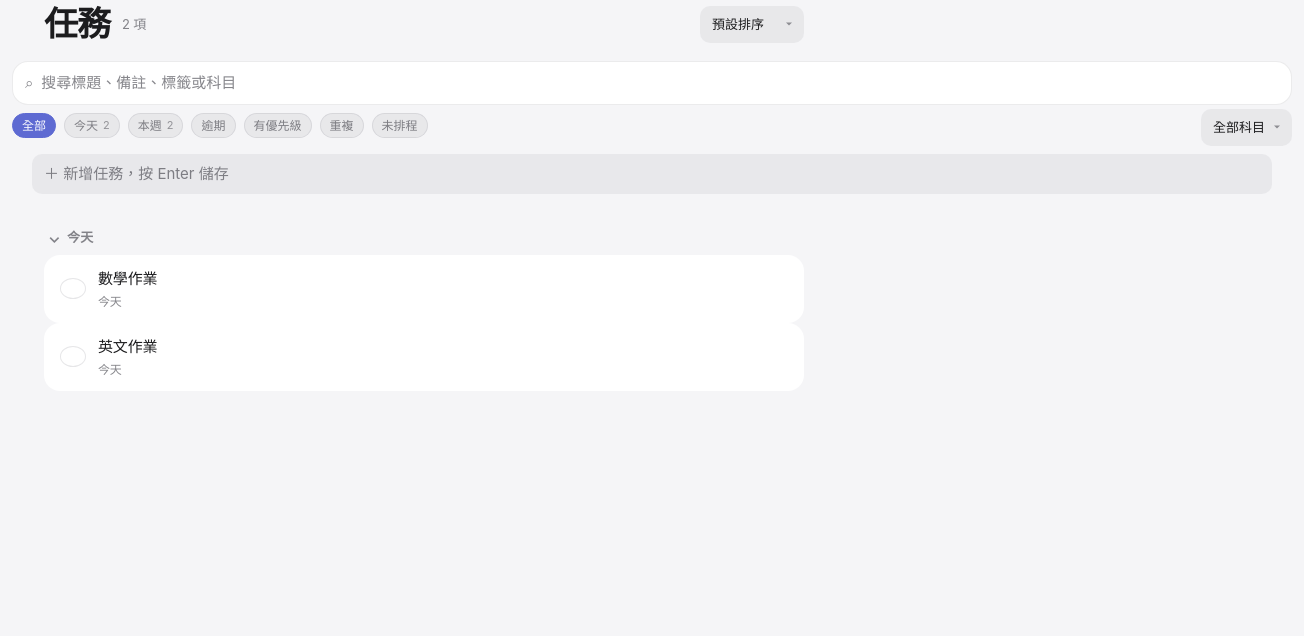
Test: 任務明細切換到另一筆任務時保留未寫入的草稿 › A 先失敗、重試成功後才切換到 B，B 的編輯不會覆蓋掉 A
Click the text "數學作業": (128, 278) [98, 269, 157, 288]
(page scrolled)
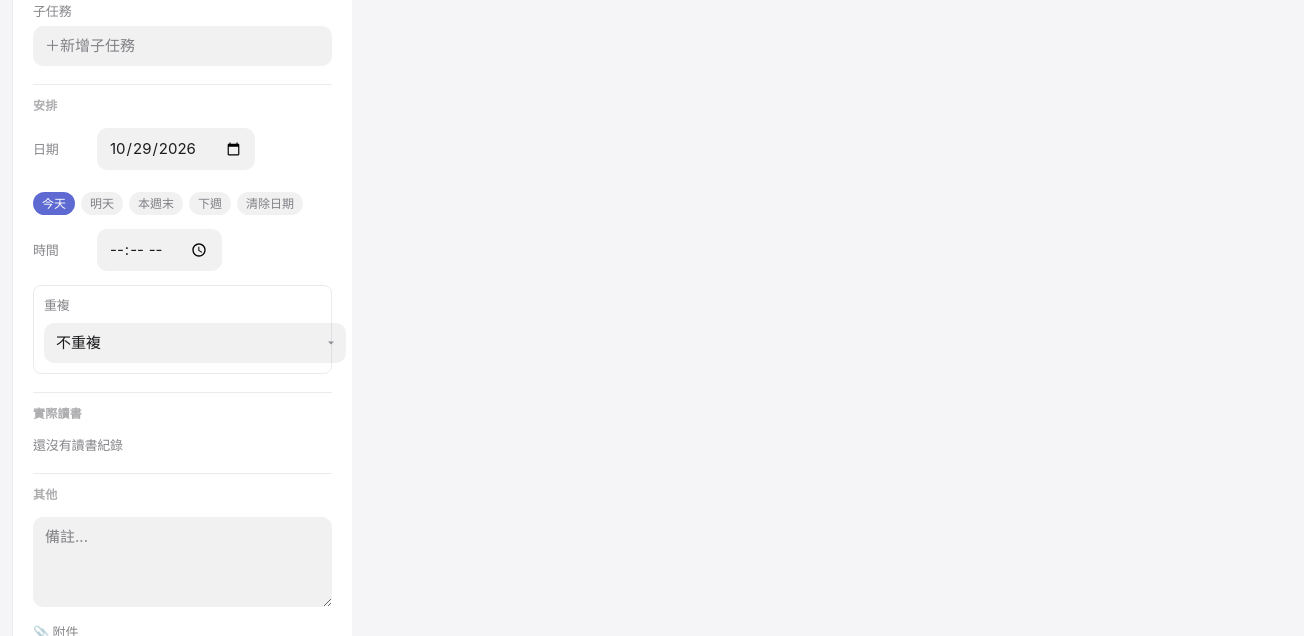
In the text box with placeholder "備註...": (182, 562) [33, 518, 332, 608], type "第三章重點"
(page scrolled)
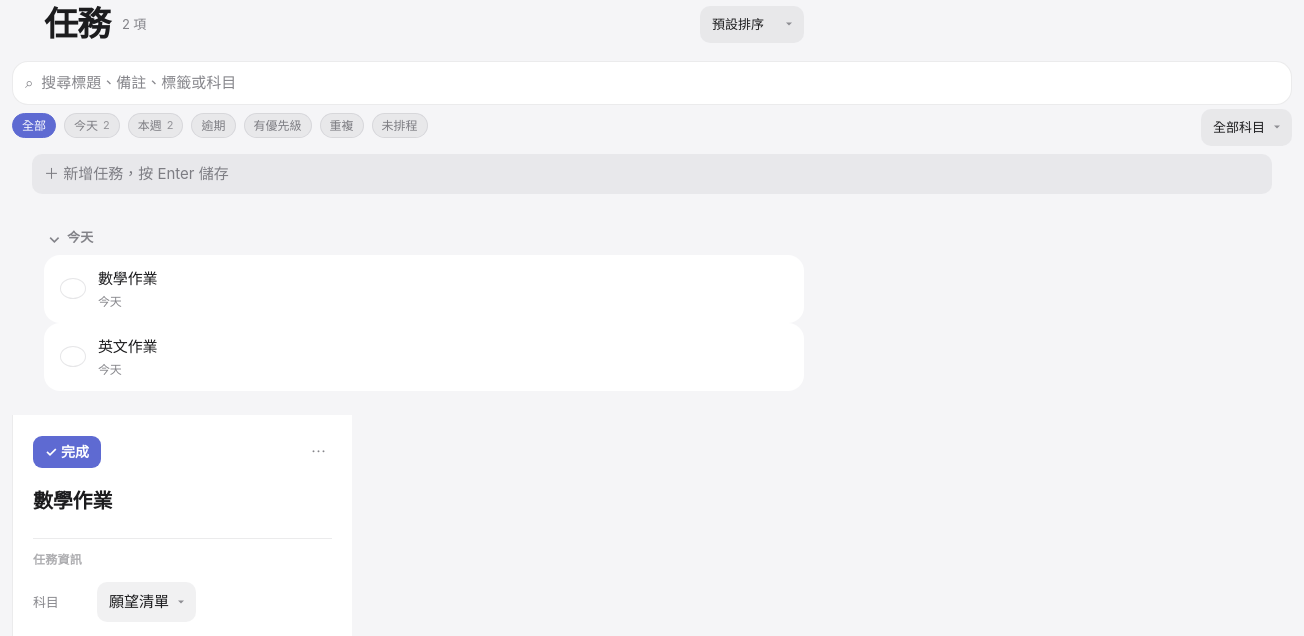
Click the text "英文作業": (128, 346) [98, 337, 157, 356]
(page scrolled)
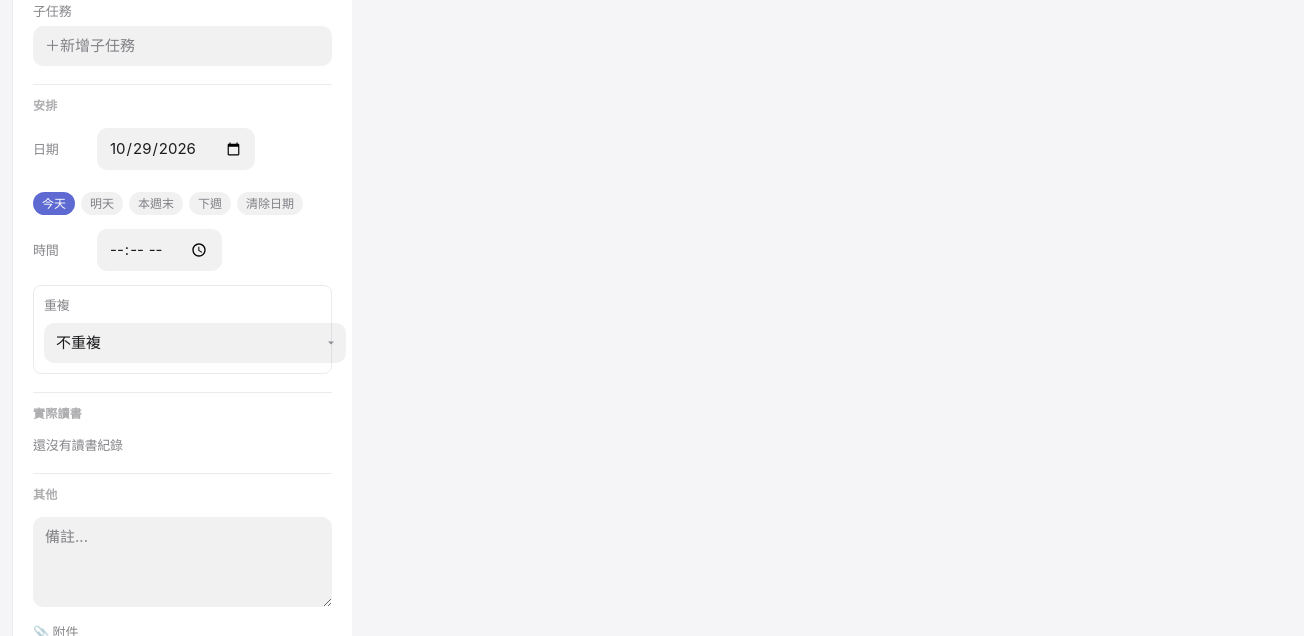
In the text box with placeholder "備註...": (182, 562) [33, 518, 332, 608], type "單字 20 個"
(page scrolled)
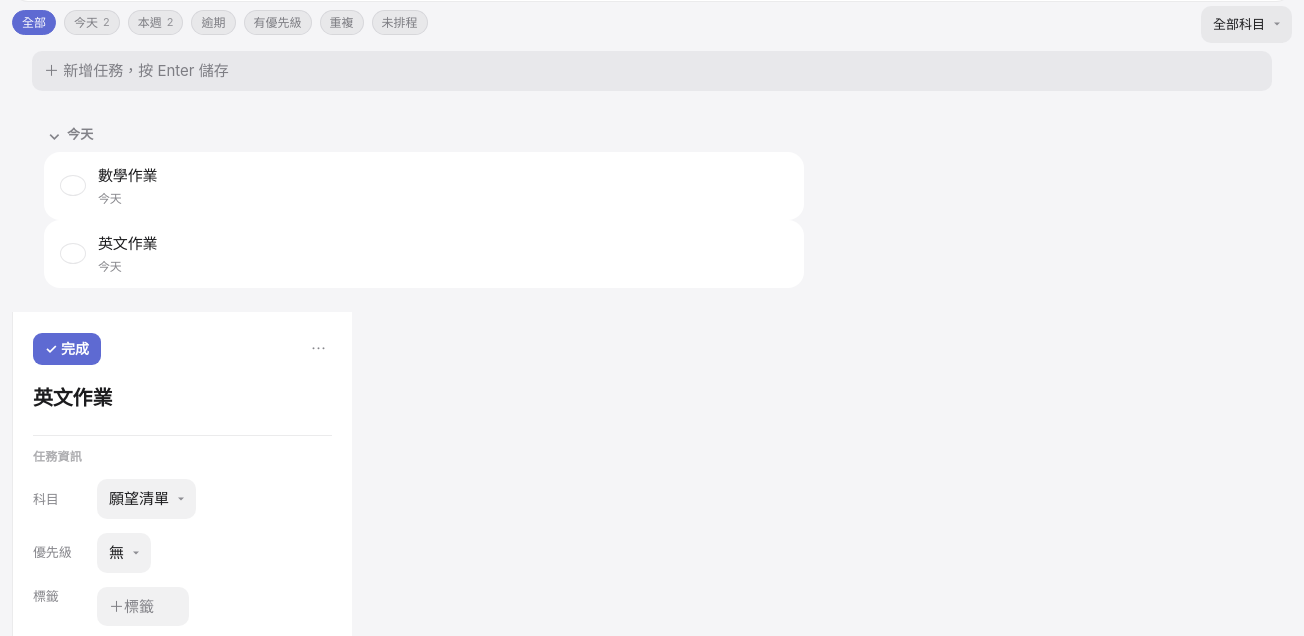
Click the button titled "完成編輯": (67, 349) [33, 333, 101, 365]
(page scrolled)
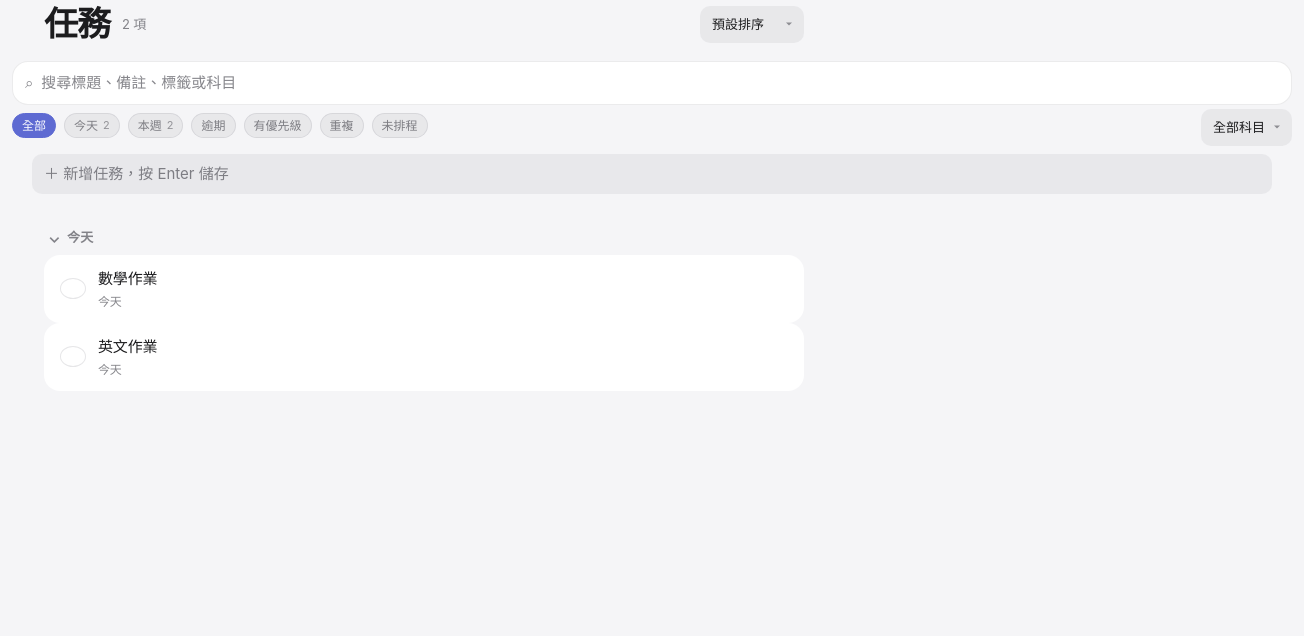
Expected: the button titled "完成編輯" is gone
